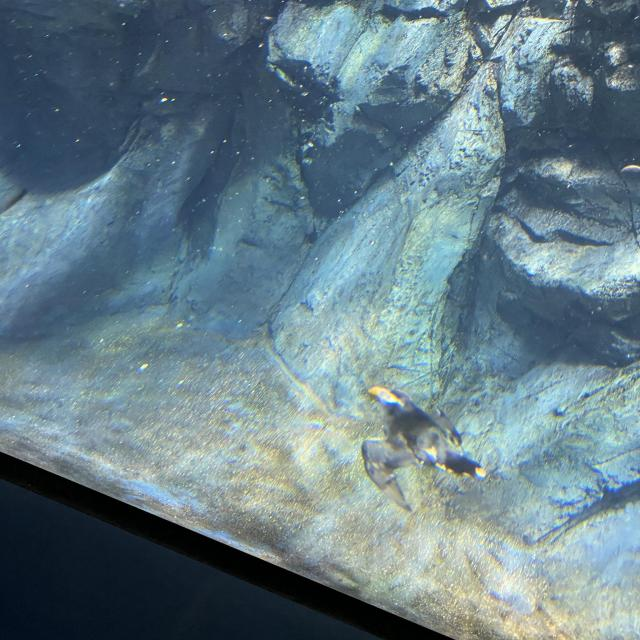puffin: (361, 386, 485, 512)
